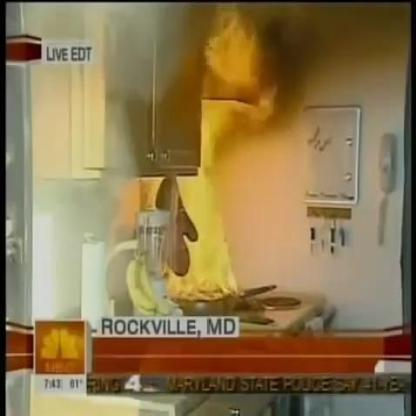fire: (149, 142, 241, 303), (197, 2, 280, 147)
